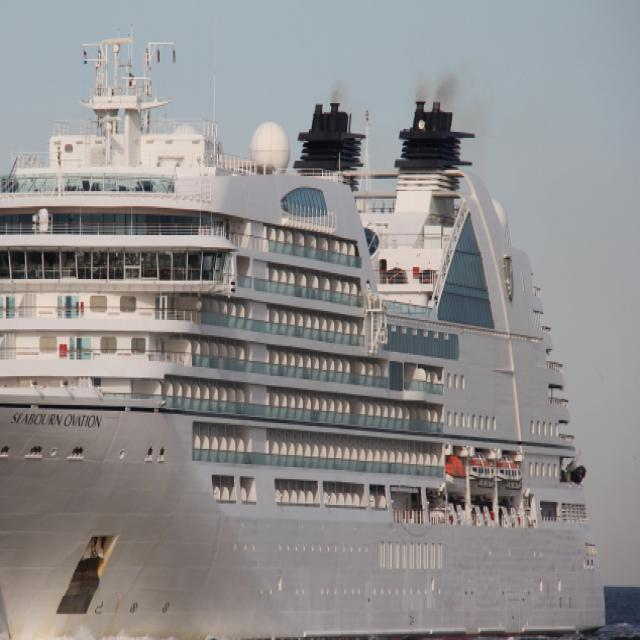cruises: (1, 28, 610, 640)
